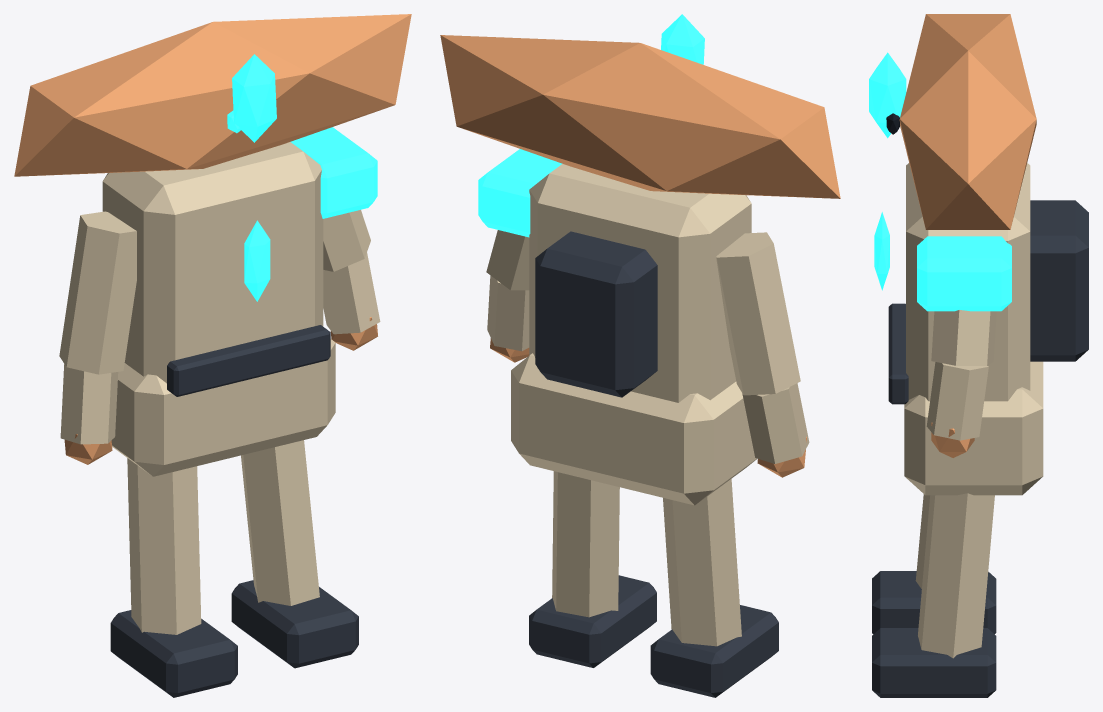
Rendered from npcs_020_seed78877.glb.
3 renders of one model, left to right at view 1: azimuth 30°, elevation 25°; view 2: azimuth 150°, elevation 25°; view 3: azimuth 270°, elevation 25°, orthographic. The views are drawn at different scales.
Parts seen in each view (by area): view 1: npcs_020_seed78877; view 2: npcs_020_seed78877; view 3: npcs_020_seed78877.
Boxes of the visible parts, x1,y1,x2,y2 form: npcs_020_seed78877: [14, 14, 411, 697]; npcs_020_seed78877: [440, 14, 840, 697]; npcs_020_seed78877: [869, 14, 1088, 697].
Bounding box in the file's own units: 1.17 × 1.76 × 0.5798.
